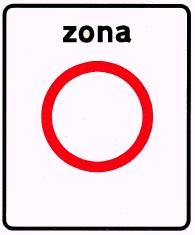zona de transito proibido: (3, 3, 193, 230)
